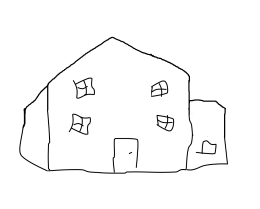closed_window: (70, 75, 100, 101), (68, 111, 96, 138), (152, 112, 179, 133), (146, 78, 172, 99)
door: (108, 133, 146, 175)
open_window: (194, 137, 220, 158)
single_line_roof: (35, 32, 198, 80), (179, 92, 235, 112)
wall: (42, 84, 194, 177)
